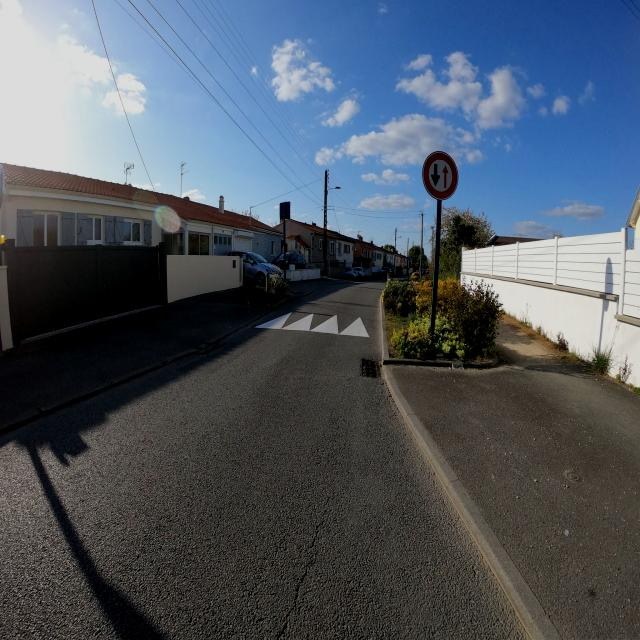car: (226, 250, 283, 285), (270, 251, 308, 270), (349, 266, 366, 280)
